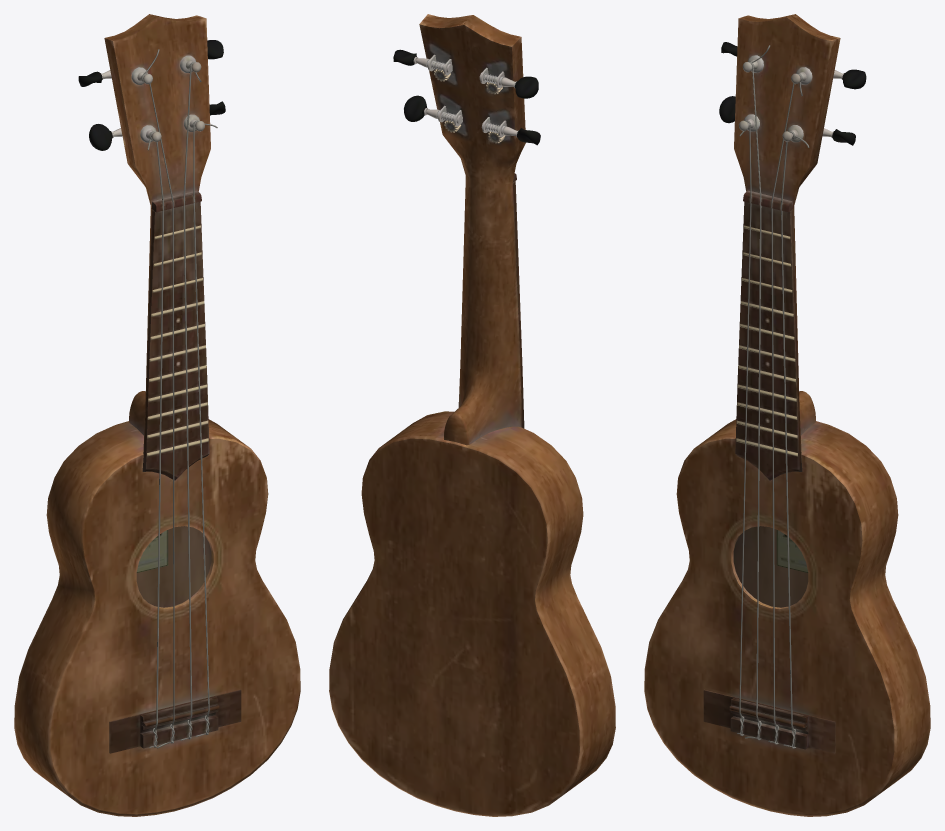
Rendered from Ukulele_01.glb.
3 views of the same model, side by side, from view 1: azimuth 30°, elevation 25°; view 2: azimuth 150°, elevation 25°; view 3: azimuth 330°, elevation 25° (orthographic).
Parts seen in each view (by area): view 1: Ukulele_01; view 2: Ukulele_01; view 3: Ukulele_01.
Boxes of the visible parts, <box> form: Ukulele_01: <box>14,14,300,816</box>; Ukulele_01: <box>329,14,615,816</box>; Ukulele_01: <box>644,14,930,816</box>.
Bounding box in the file's own units: 0.1779 × 0.527 × 0.0508.
1 material, 1 textured.
